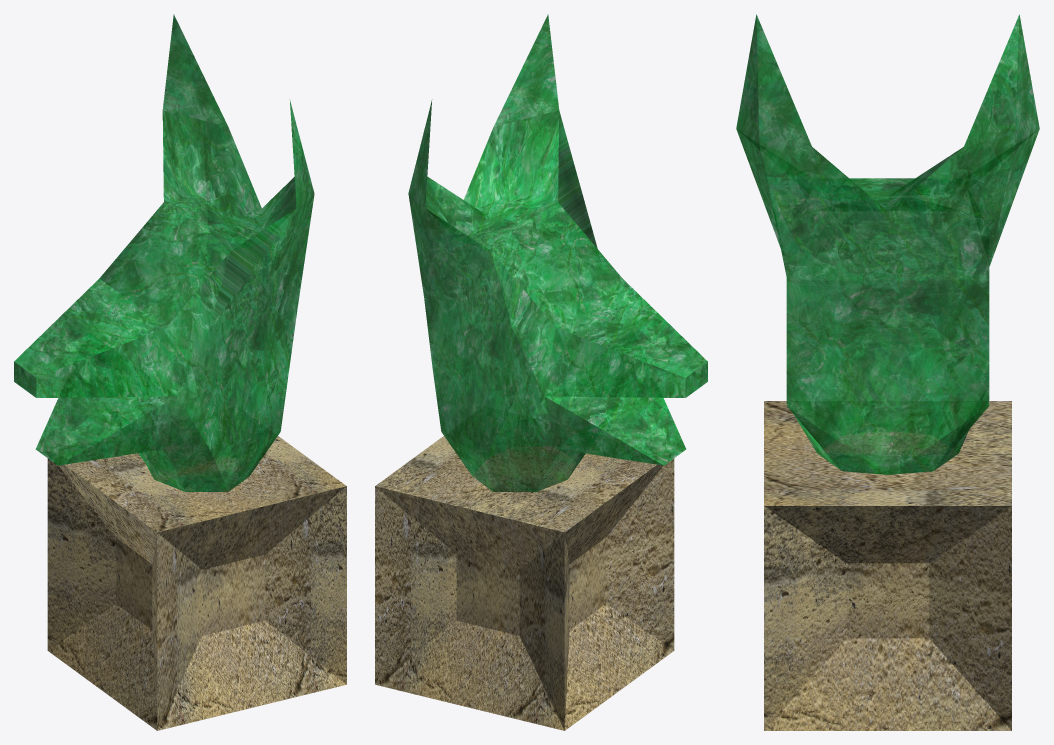
The model's file is pushable_block.FBX.
3 renders of one model, left to right at view 1: azimuth 30°, elevation 25°; view 2: azimuth 150°, elevation 25°; view 3: azimuth 270°, elevation 25°, orthographic. The views are drawn at different scales.
Parts seen in each view (by area): view 1: Box002; view 2: Box002; view 3: Box002.
Boxes of the visible parts, x1,y1,x2,y2 form: Box002: (14,14,346,730); Box002: (375,14,707,730); Box002: (736,14,1039,730).
Bounding box in the file's own units: 16.63 × 35.88 × 14.44.
Materials: 2 (2 with a texture image).
